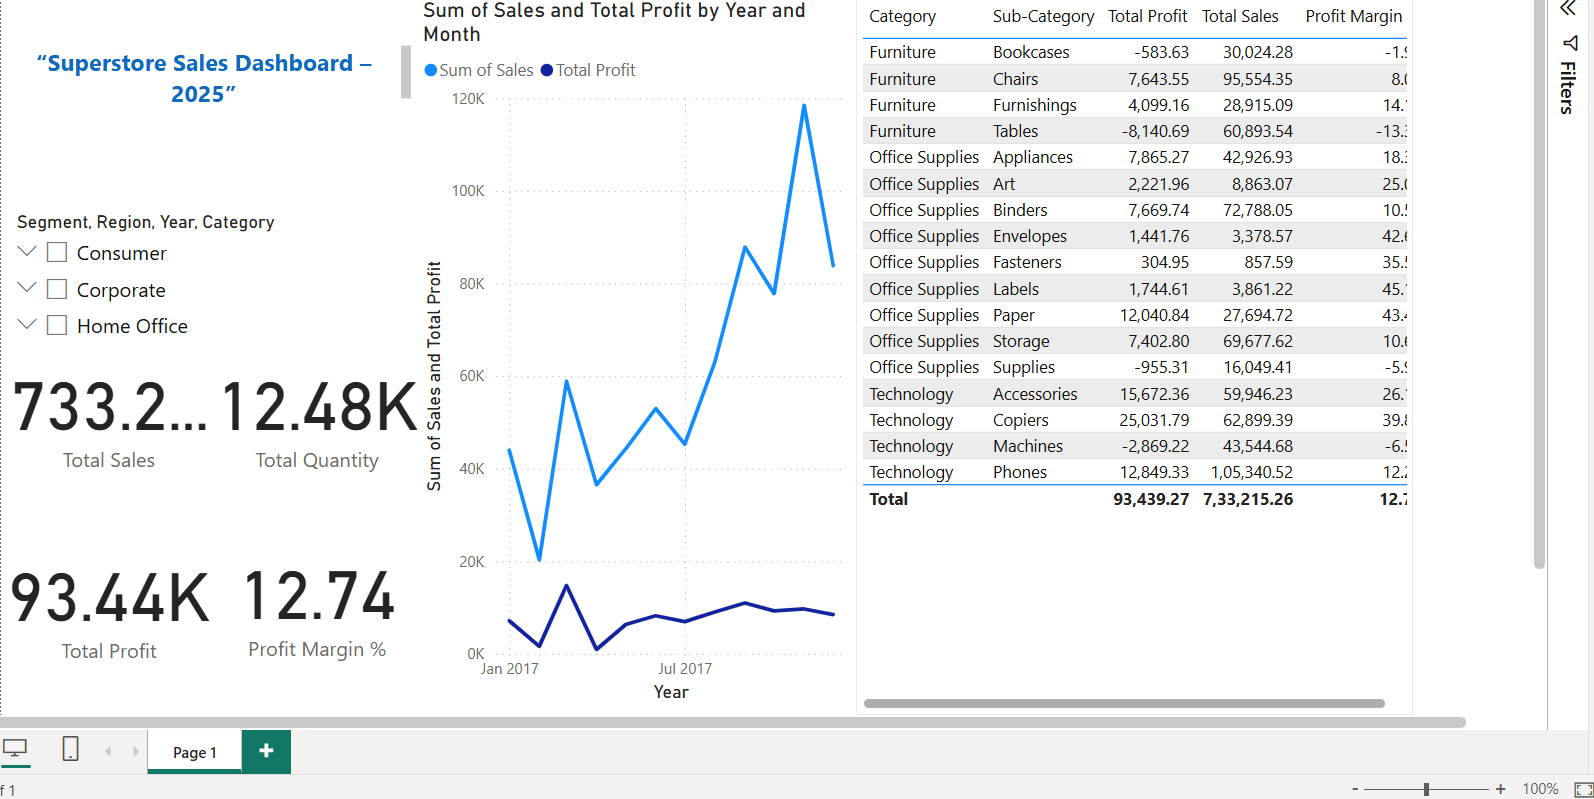

The page's visual inventory and layout, read from the dashboard file:
{"tool":"powerbi","page":{"name":"Page 1","canvas":[1280,720],"ordinal":0},"visuals":[{"type":"card","fields":{"Values":["Sample - Superstore.Total Sales"]},"box":[0,272,173,118],"z":0},{"type":"card","fields":{"Values":["Sample - Superstore.Total Profit"]},"box":[0,390,173,189],"z":1000},{"type":"card","fields":{"Values":["Sample - Superstore.Total Quantity"]},"box":[166,272,174,118],"z":2000},{"type":"card","fields":{"Values":["Sample - Superstore.Profit Margin %"]},"box":[173,390,160,185],"z":3000},{"type":"slicer","fields":{"Values":["Sample - Superstore.Segment","Sample - Superstore.Region","Sample - Superstore.Year","Sample - Superstore.Category"]},"box":[0,166,346,119],"z":4000},{"type":"lineChart","fields":{"Category":["Sample - Superstore.Order Date.Variation.Date Hierarchy.Year","Sample - Superstore.Order Date.Variation.Date Hierarchy.Month"],"Y":["Sum(Sample - Superstore.Sales)","Sample - Superstore.Total Profit"]},"box":[333,0,360,570],"z":5000},{"type":"tableEx","fields":{"Values":["Sample - Superstore.Category","Sample - Superstore.Sub-Category","Sample - Superstore.Total Profit","Sample - Superstore.Total Sales","Sample - Superstore.Profit Margin %"]},"box":[684,0,446,575],"z":5001},{"type":"textbox","box":[0,34,333,56],"z":5002}]}

Visuals, with their boxes on the page's 1280x720 design canvas (x1, y1, x2, y2). These are canvas units, not pixel positions in the 1594x799 screenshot, which may show the page scaled, cropped or inside an application window:
card - Sample - Superstore.Total Sales: Rect(0, 272, 173, 390)
card - Sample - Superstore.Total Profit: Rect(0, 390, 173, 579)
card - Sample - Superstore.Total Quantity: Rect(166, 272, 340, 390)
card - Sample - Superstore.Profit Margin %: Rect(173, 390, 333, 575)
slicer - Sample - Superstore.Segment x Sample - Superstore.Region: Rect(0, 166, 346, 285)
lineChart - Sample - Superstore.Order Date.Variation.Date Hierarchy.Year x Sample - Superstore.Order Date.Variation.Date Hierarchy.Month: Rect(333, 0, 693, 570)
tableEx - Sample - Superstore.Category x Sample - Superstore.Sub-Category: Rect(684, 0, 1130, 575)
textbox: Rect(0, 34, 333, 90)
